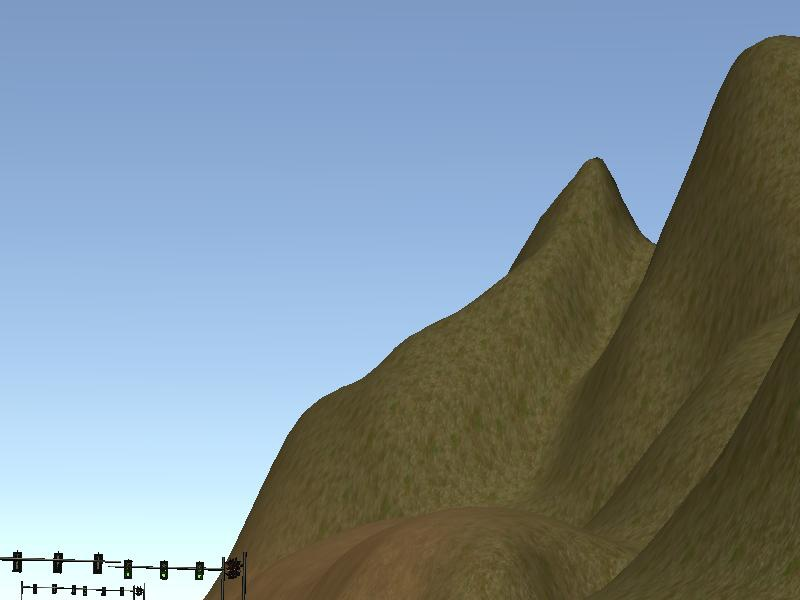Green: (123, 558, 132, 578), (196, 561, 204, 581), (160, 561, 168, 579)
